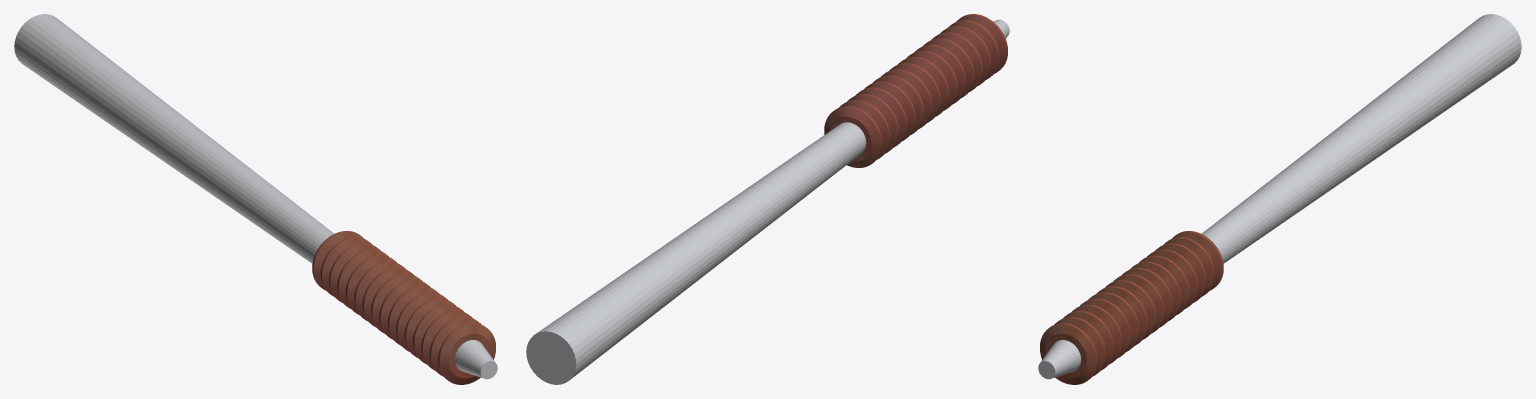
File: catenary_easy_end.obj
3 views of the same model, side by side, from view 1: azimuth 30°, elevation 25°; view 2: azimuth 150°, elevation 25°; view 3: azimuth 330°, elevation 25° (orthographic).
Parts seen in each view (by area): view 1: insulators.002; view 2: insulators.002; view 3: insulators.002.
Part boxes in pixels (x1,y1,x2,y2): insulators.002: (14, 14, 497, 384); insulators.002: (526, 14, 1009, 384); insulators.002: (1038, 14, 1521, 384).
Size of the model in its own units: 0.1451 by 0.1451 by 2.
4 materials, 4 textured.
